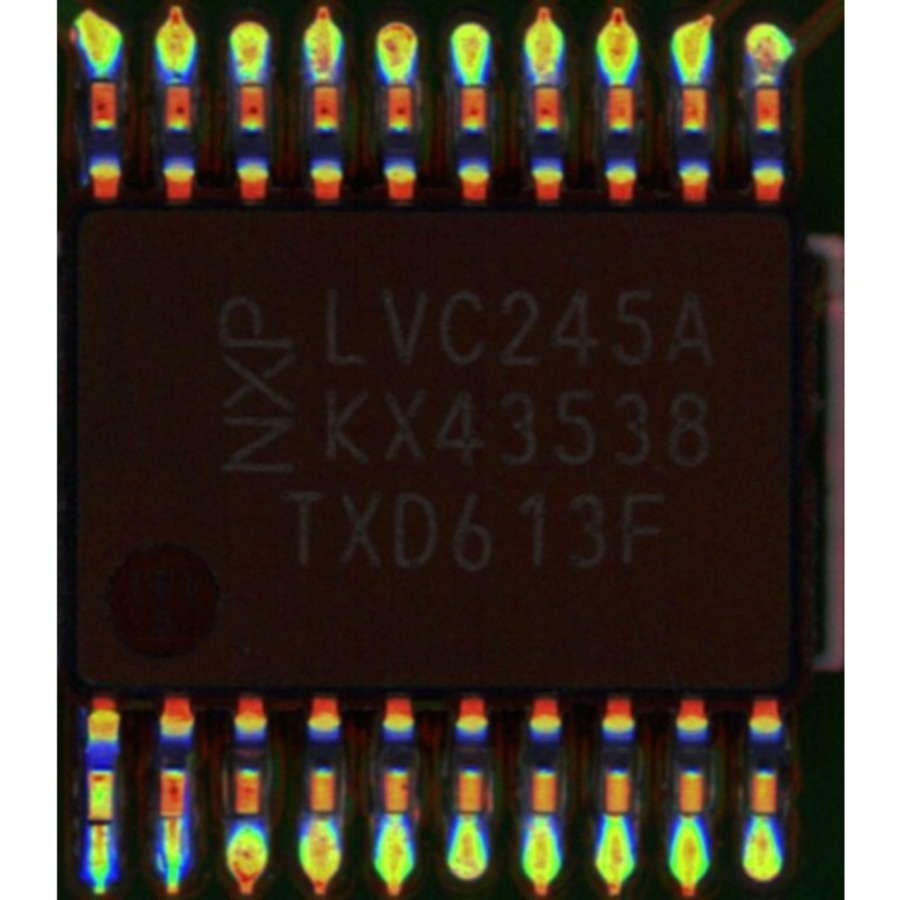Bad_podu: (90, 808, 109, 846), (163, 808, 181, 839)
